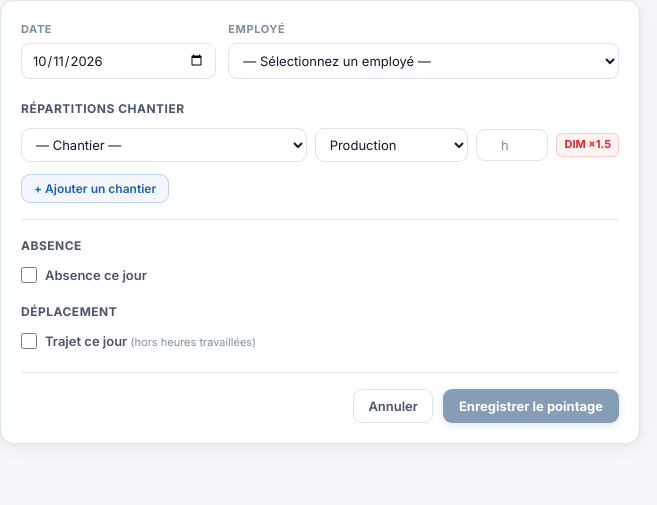
Scenario: PointageFormulaire — badges majoration › Jeûne genevois → badge FÉRIÉ sur ligne GE, rien sur ligne VD
This screenshot has width=657, height=505.
Type "2026-09-10" into the date field at (119, 61), box [21,43,216,79]
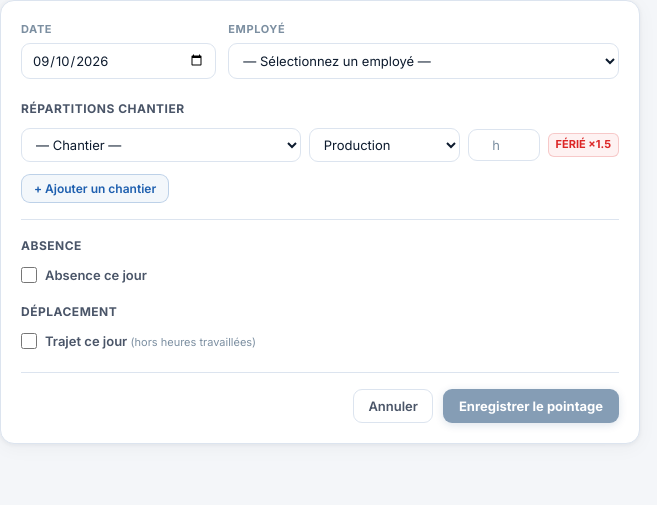
Note: Ajouter une ligne
Click the button "+ Ajouter un chantier" at (95, 188), box [21,174,169,203]
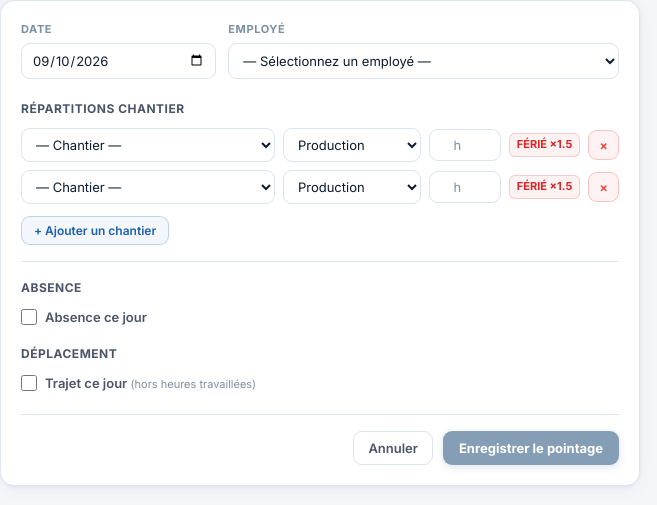
Select "Chantier Genève" in the 1st dropdown named "Chantier" at (148, 145), box [21,128,275,162]
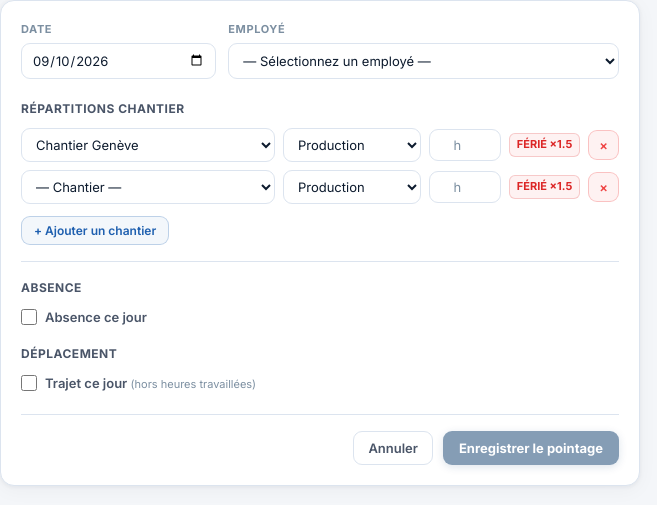
Select "Chantier Vaud" in the 2nd dropdown named "Chantier" at (148, 187), box [21,170,275,204]
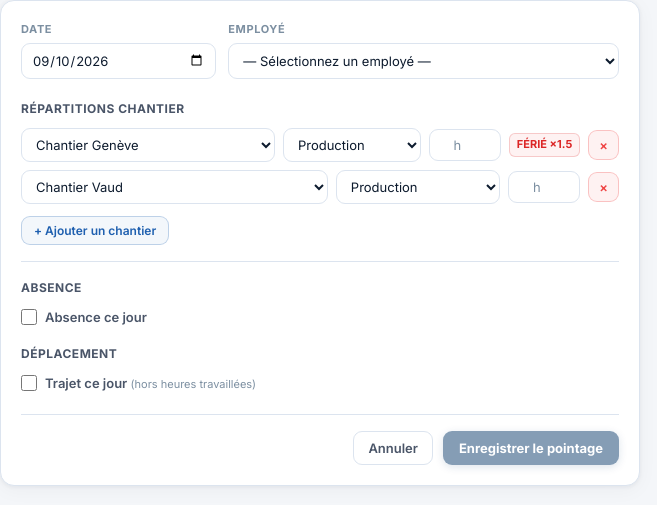
Expected: the text "FÉRIÉ ×1.5" is shown once, [509,133,580,157]
